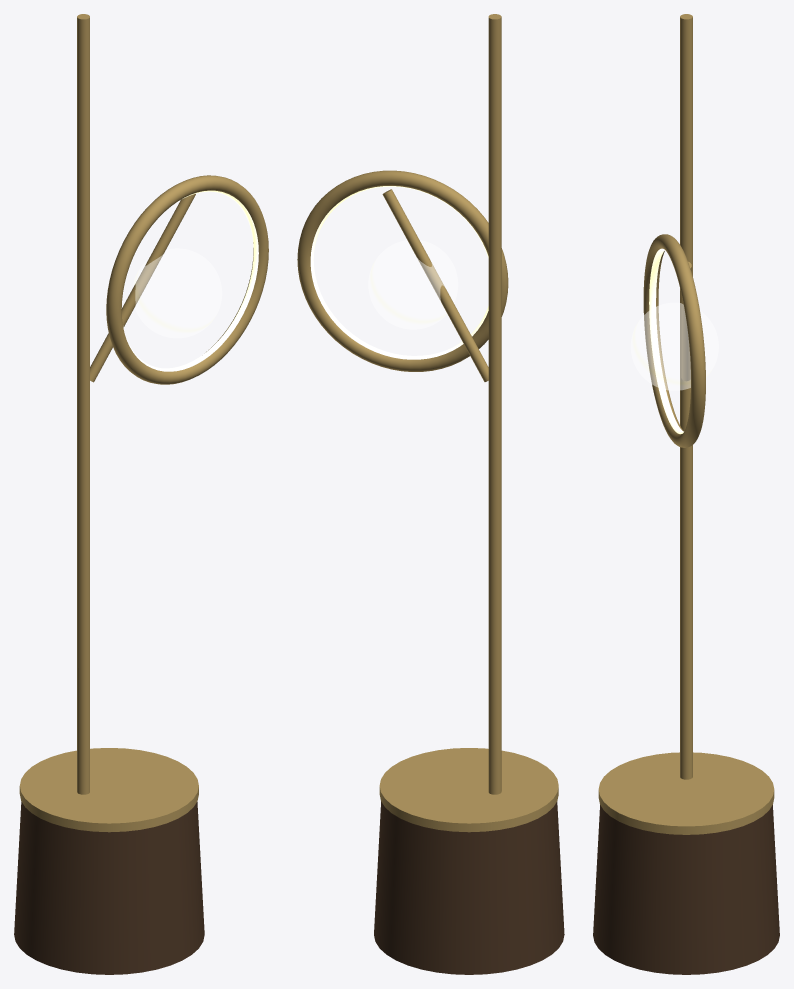
Rendered from atelier-lamp-halo-warm.glb.
3 views of the same model, side by side, from view 1: azimuth 30°, elevation 25°; view 2: azimuth 150°, elevation 25°; view 3: azimuth 270°, elevation 25° (orthographic).
Bounding box in the file's own units: 0.4789 × 1.71 × 0.32.
